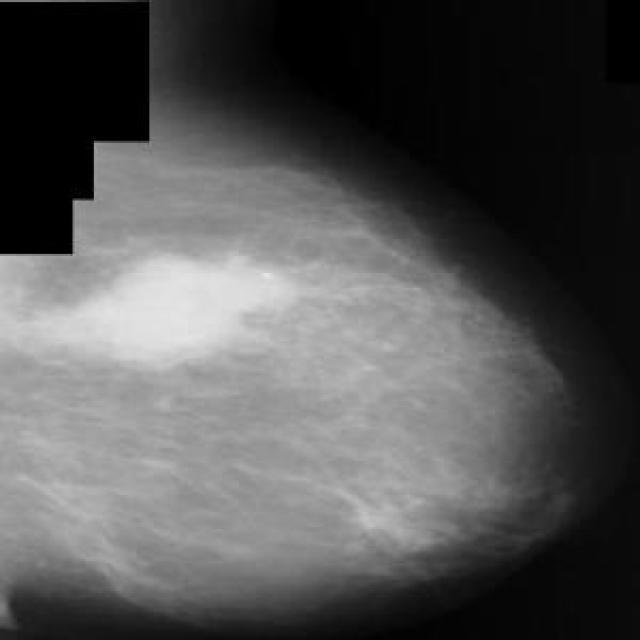tumor: (74, 254, 294, 372)
